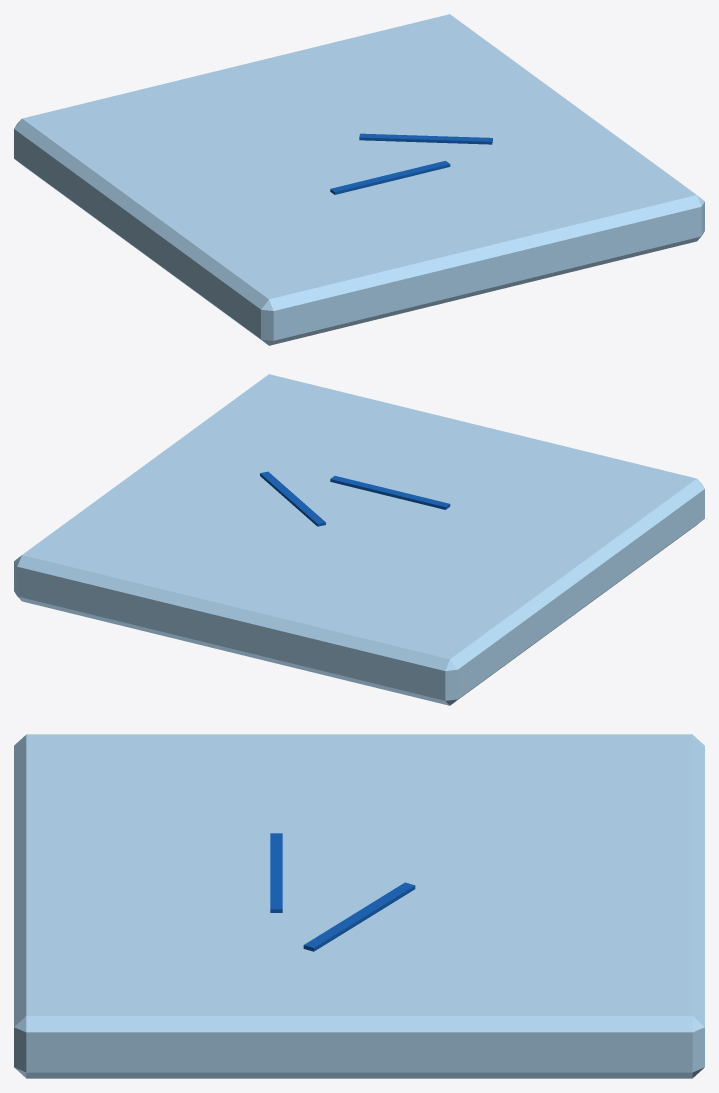
Rendered from Tile_Ice_CrackSmall_v001.fbx.
3 views of the same model, one above another, from view 1: azimuth 30°, elevation 25°; view 2: azimuth 150°, elevation 25°; view 3: azimuth 270°, elevation 25° (orthographic). The views are drawn at different scales.
Visible parts, largest first — view 1: Tile, Crack, Crack.001; view 2: Tile, Crack.001, Crack; view 3: Tile, Crack, Crack.001.
Boxes of the visible parts, x1=… form: Tile: x1=14, y1=14, x2=704, y2=345; Crack: x1=359, y1=133, x2=492, y2=144; Crack.001: x1=330, y1=161, x2=450, y2=194; Tile: x1=14, y1=374, x2=704, y2=705; Crack.001: x1=330, y1=476, x2=450, y2=509; Crack: x1=260, y1=471, x2=325, y2=526; Tile: x1=14, y1=734, x2=704, y2=1078; Crack: x1=303, y1=882, x2=415, y2=951; Crack.001: x1=270, y1=833, x2=282, y2=912.
Size of the model in its own units: 100 by 10.6 by 100.
